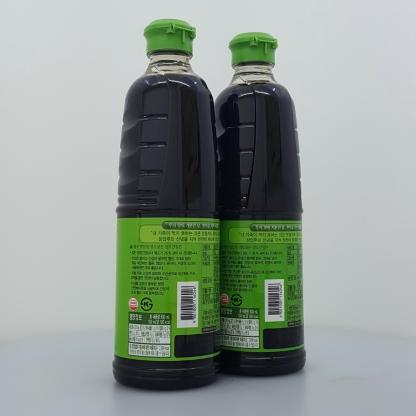-------------: (112, 19, 220, 390), (210, 32, 306, 376)
